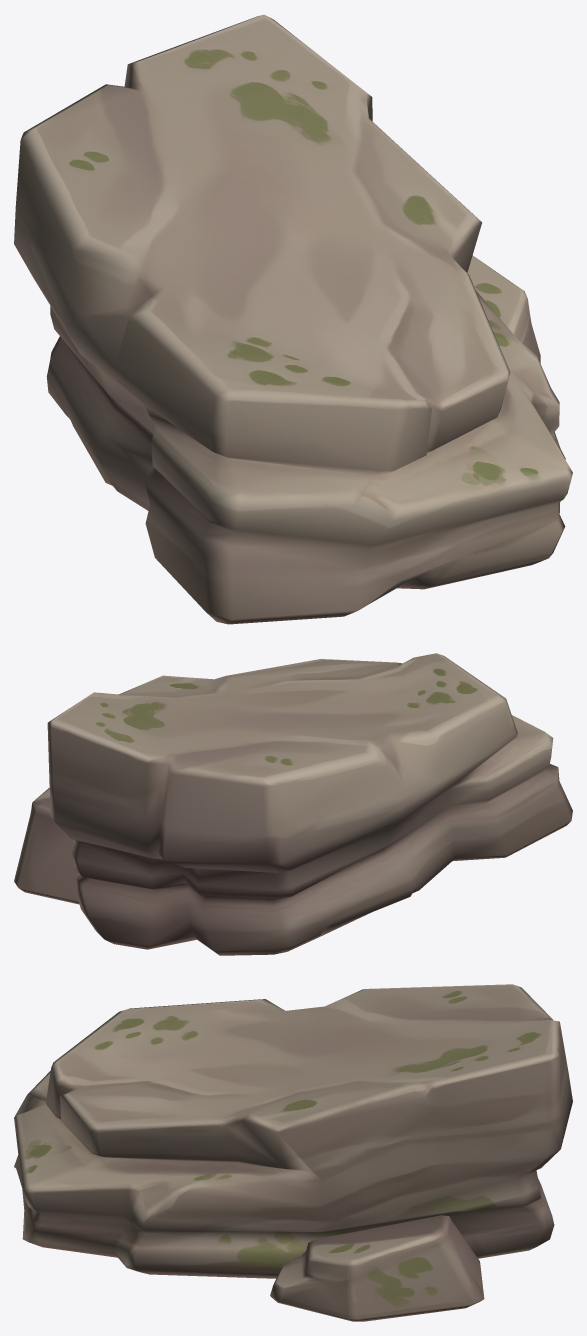
Rendered from map_rock_c_tripo.glb.
3 views of the same model, one above another, from view 1: azimuth 30°, elevation 25°; view 2: azimuth 150°, elevation 25°; view 3: azimuth 270°, elevation 25° (orthographic). The views are drawn at different scales.
Visible parts, largest first — view 1: tripo_node_39df0c1a-cb77-4297-835e-625b1af4d67f; view 2: tripo_node_39df0c1a-cb77-4297-835e-625b1af4d67f; view 3: tripo_node_39df0c1a-cb77-4297-835e-625b1af4d67f.
Part boxes in pixels (<box>): tripo_node_39df0c1a-cb77-4297-835e-625b1af4d67f: <box>14,14,572,624</box>; tripo_node_39df0c1a-cb77-4297-835e-625b1af4d67f: <box>14,653,572,955</box>; tripo_node_39df0c1a-cb77-4297-835e-625b1af4d67f: <box>14,984,572,1321</box>.
Size of the model in its own units: 0.8145 by 0.4277 by 0.998.
Materials: 1 (1 with a texture image).
